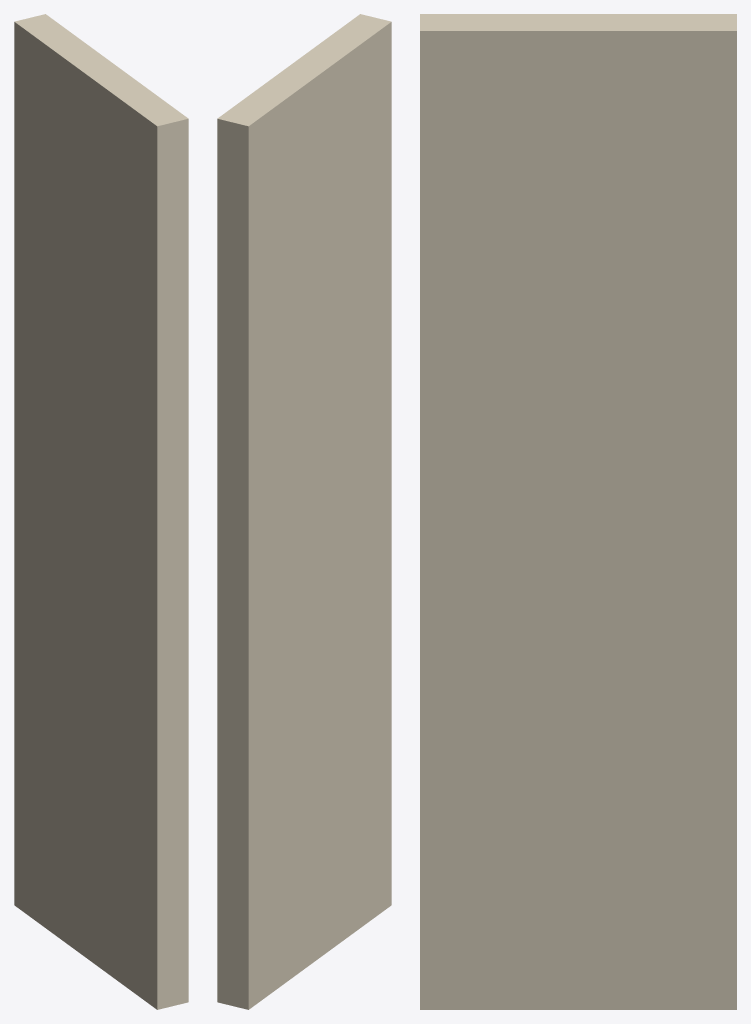
The picture shows the model from 3 angles, left to right: view 1: azimuth 30°, elevation 25°; view 2: azimuth 150°, elevation 25°; view 3: azimuth 270°, elevation 25°; orthographic projection. The views are drawn at different scales.
Parts seen in each view (by area): view 1: B-FF-WALL-010; view 2: B-FF-WALL-010; view 3: B-FF-WALL-010.
Part boxes in pixels (box(x1,y1,x2,y2)): B-FF-WALL-010: box(14, 14, 188, 1009); B-FF-WALL-010: box(217, 14, 391, 1009); B-FF-WALL-010: box(420, 14, 736, 1009).
Size of the model in its own units: 0.09 by 2.42 by 0.71.
